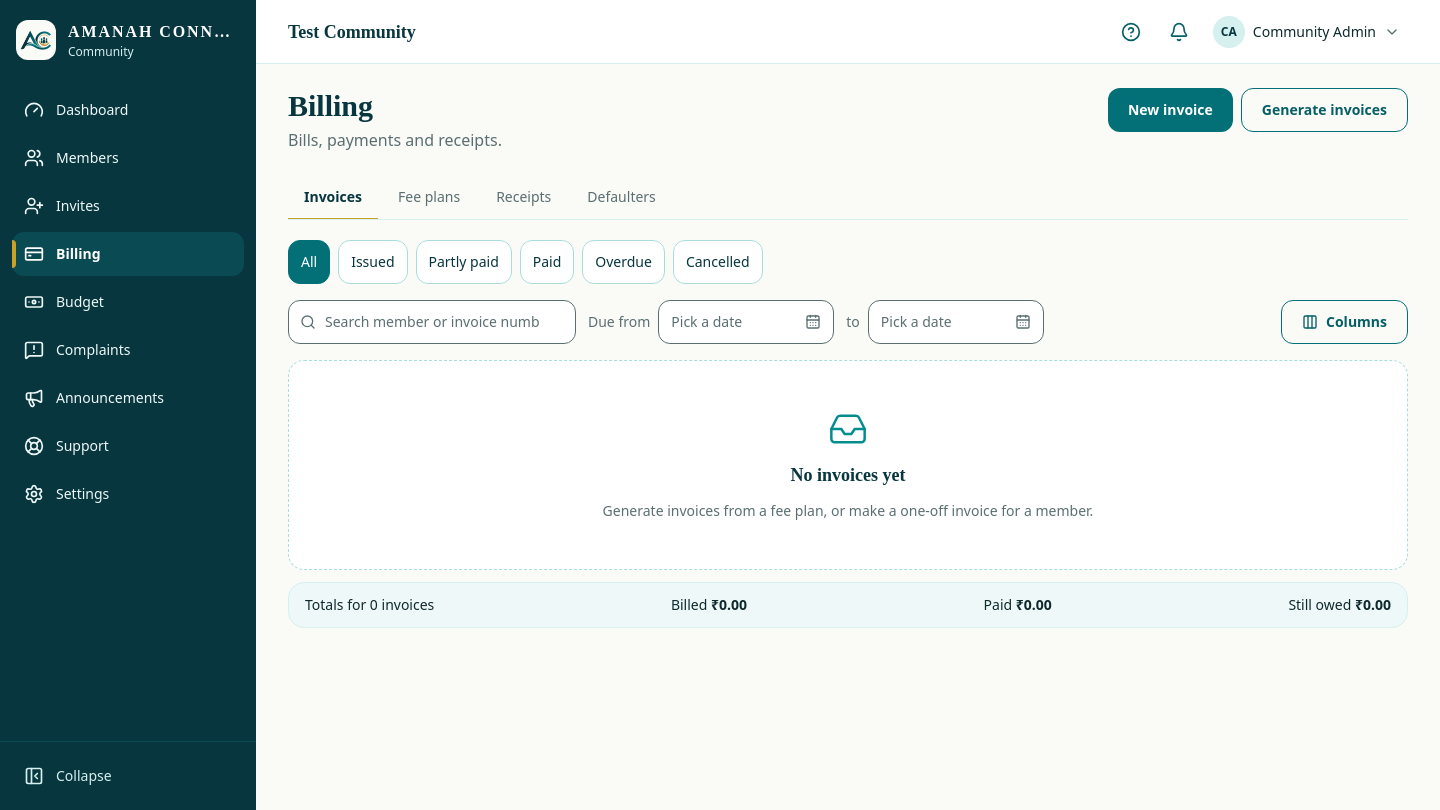
Test case: generate invoices wizard › asks for a plan before it previews
Step 1. Click the button "Generate invoices" → (1324, 110), box x1=1241 y1=88 x2=1408 y2=132
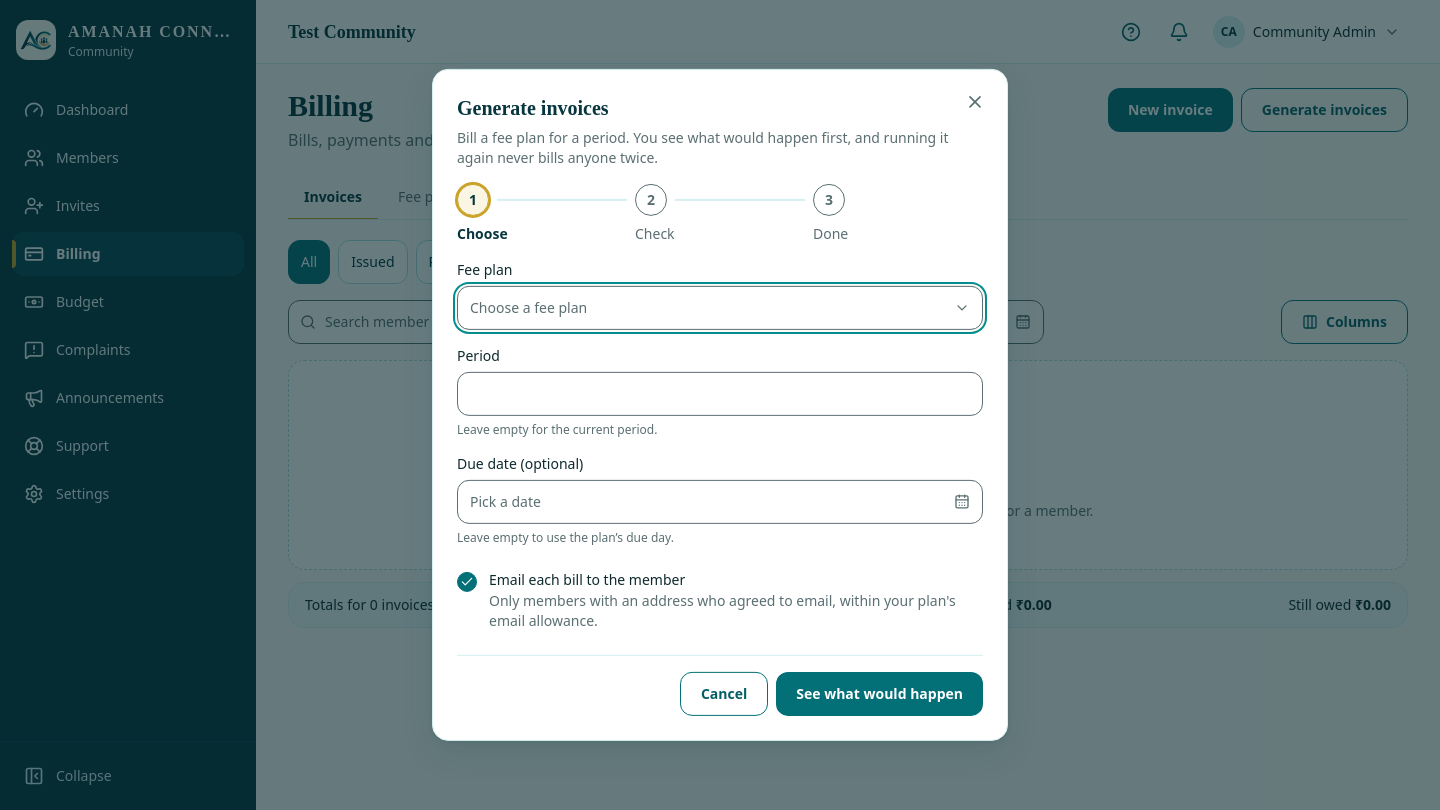
Step 2. Click the button "See what would happen" → (880, 694), box x1=776 y1=672 x2=983 y2=716
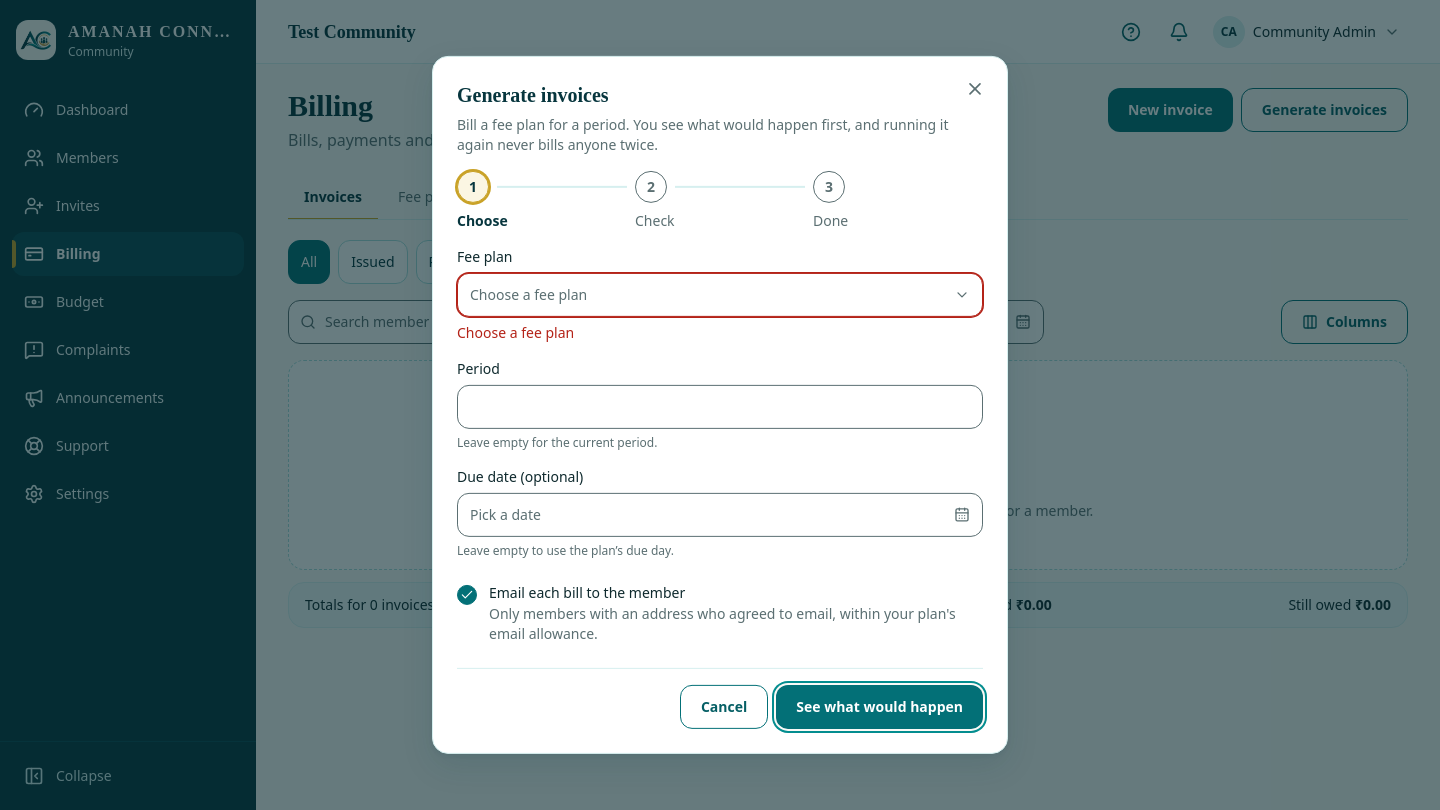
Now the message reads "Choose a fee plan", box x1=457 y1=323 x2=574 y2=342
